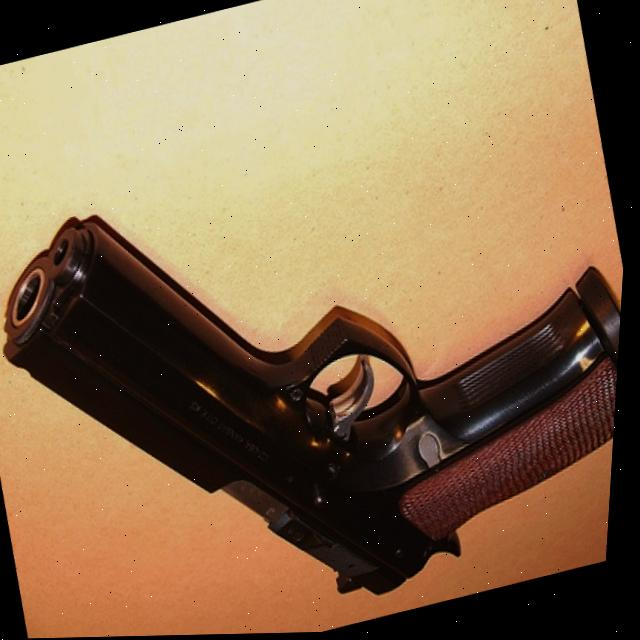pistol: (0, 91, 635, 640)
